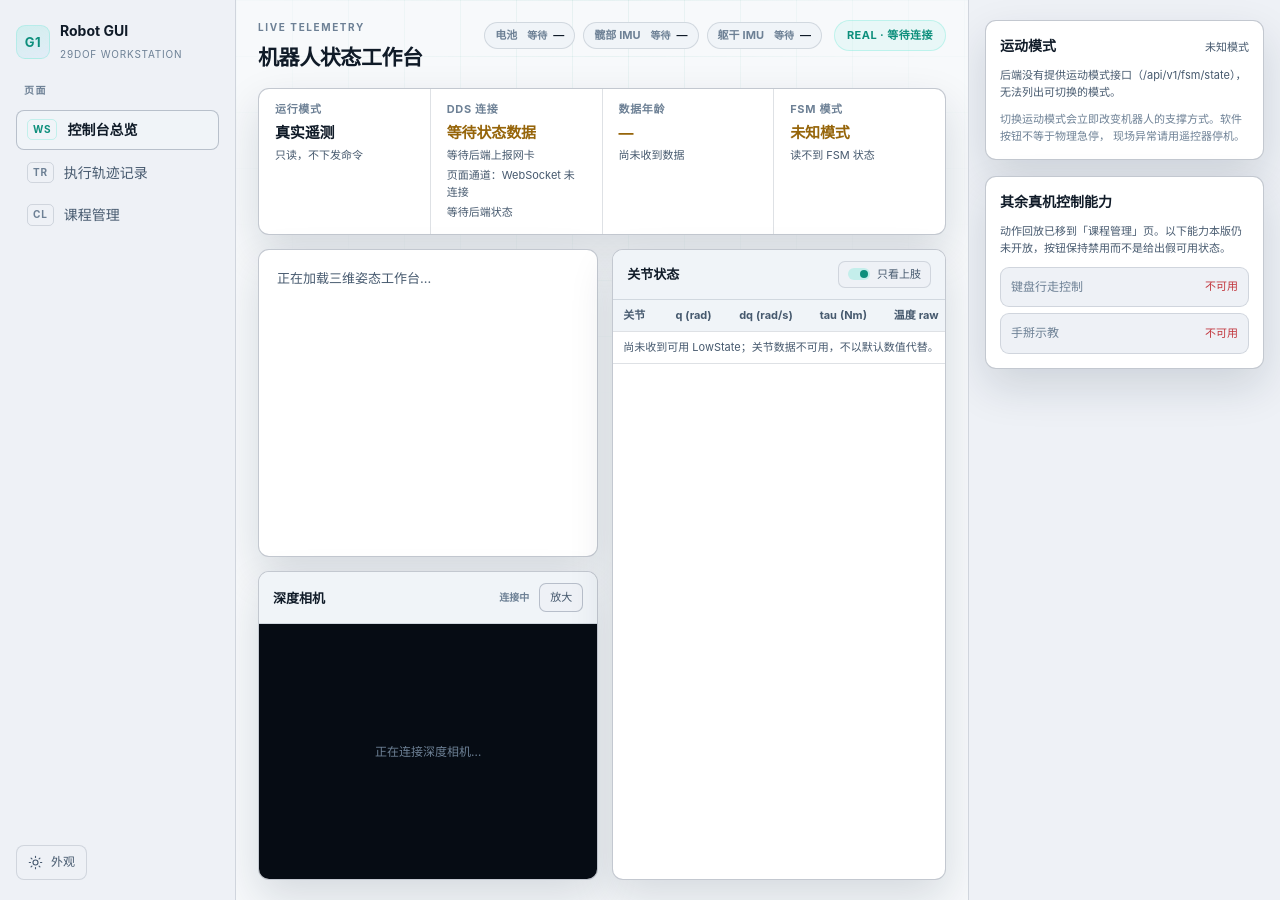
Test case: Real telemetry workstation › lists execution records and opens one on click
Click the button "TR 执行轨迹记录": (118, 172) 16,153 -> 219,192
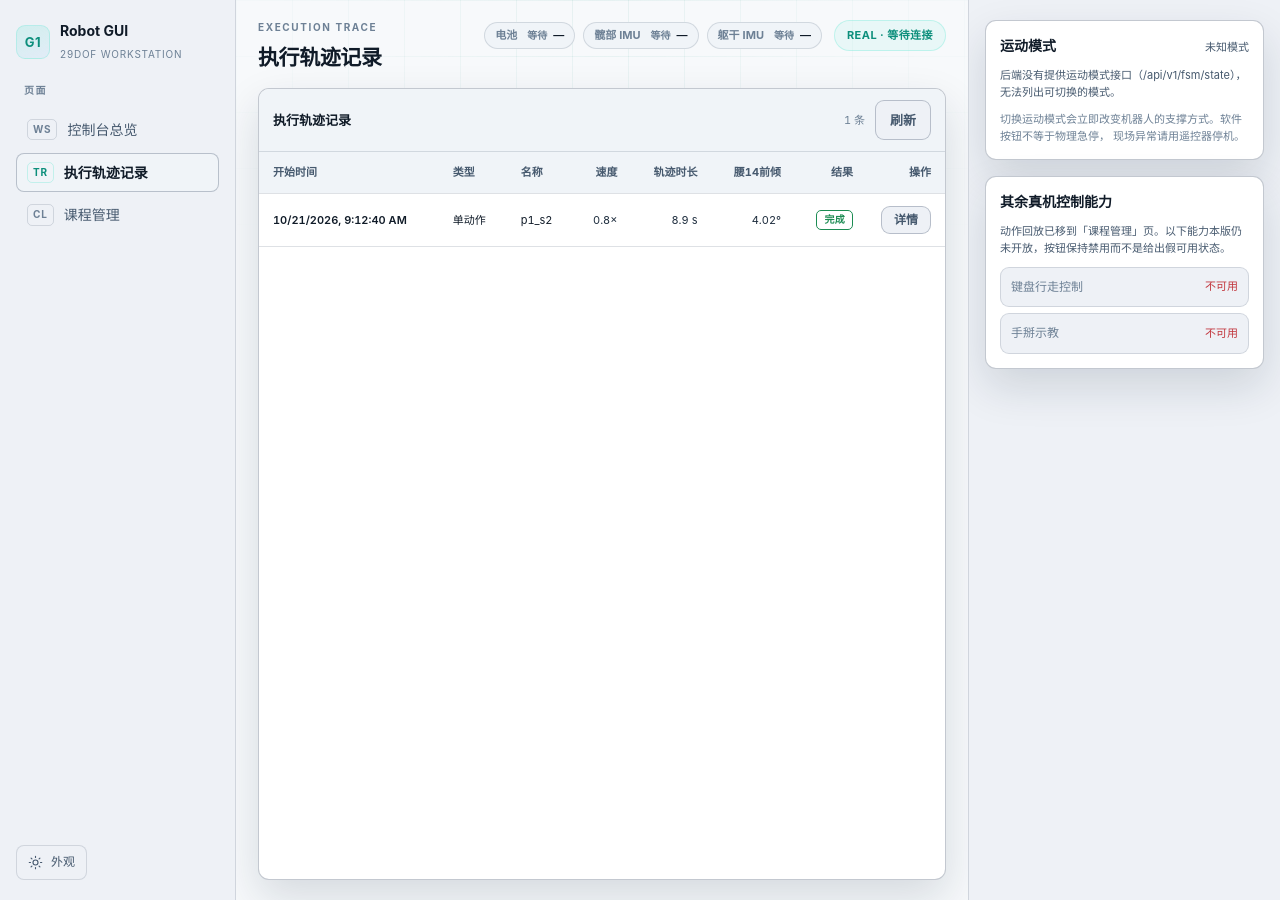
Check: the text "p1_s2" is shown
Click the text "p1_s2": (540, 220) 507,194 -> 573,247
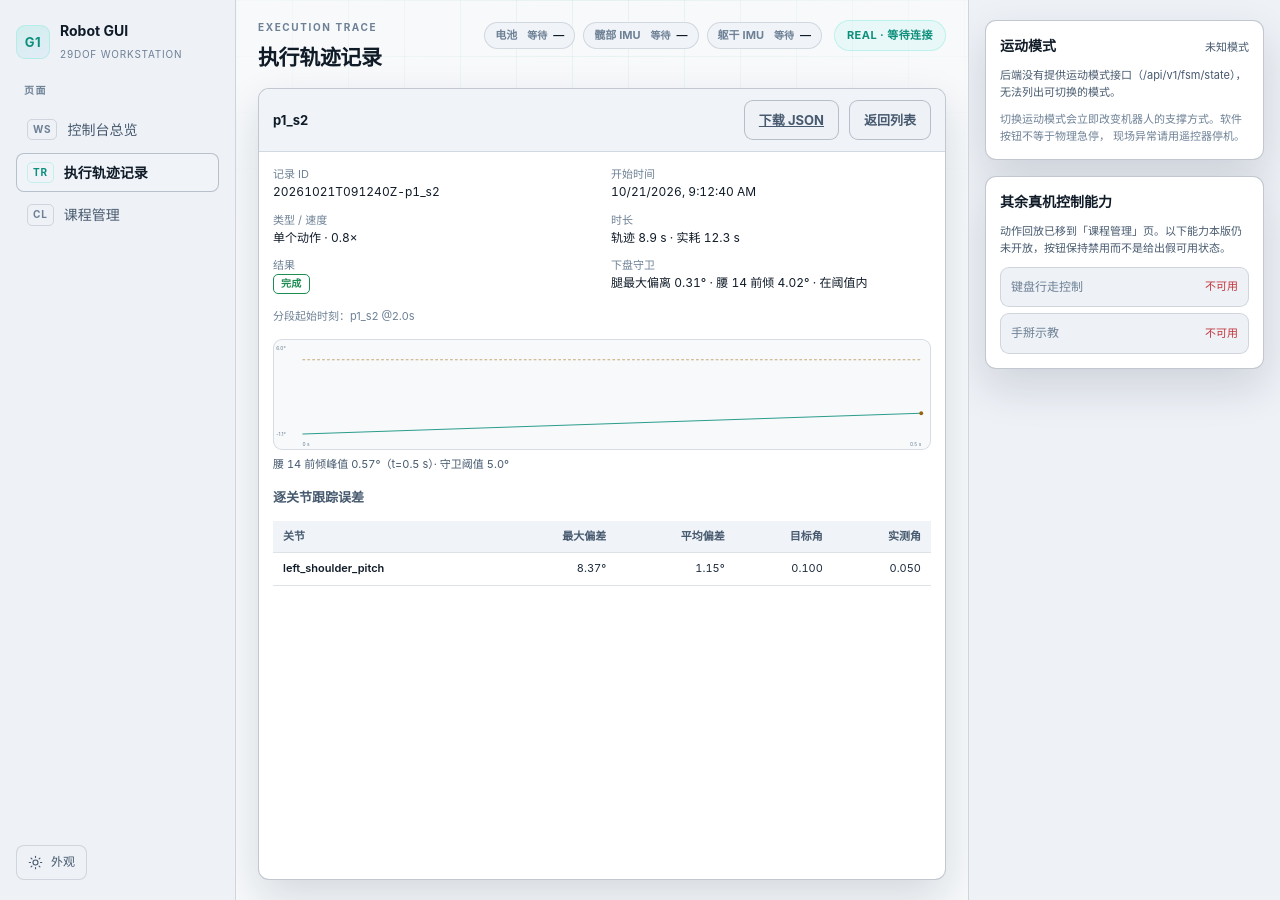
Check: the text "20261021T091240Z-p1_s2" is shown, box 273,184 -> 440,199
Check: the text "腰 14 前倾峰值 0.57°（t=0.5 s）· 守卫阈值 5.0°" is shown, box 273,457 -> 509,471
